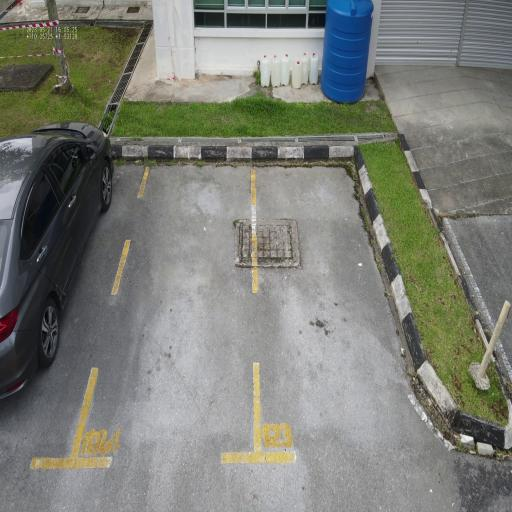Empty: (64, 151, 268, 480), (246, 154, 426, 472)
